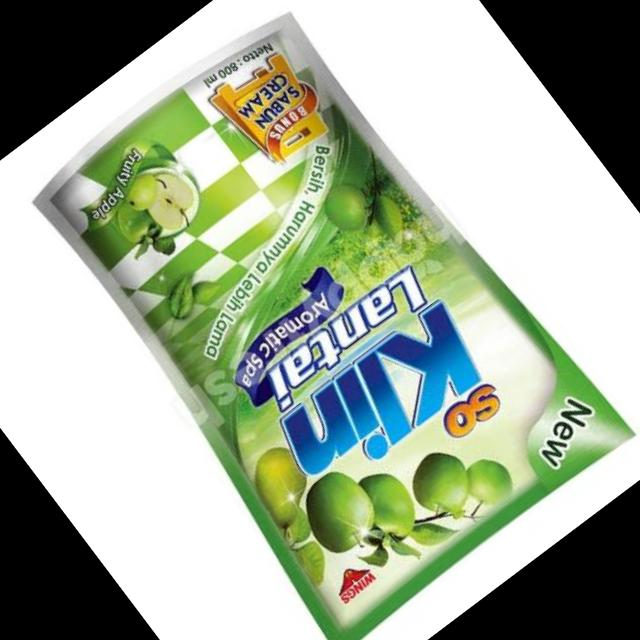KemasanPlastik: (3, 0, 636, 640)
